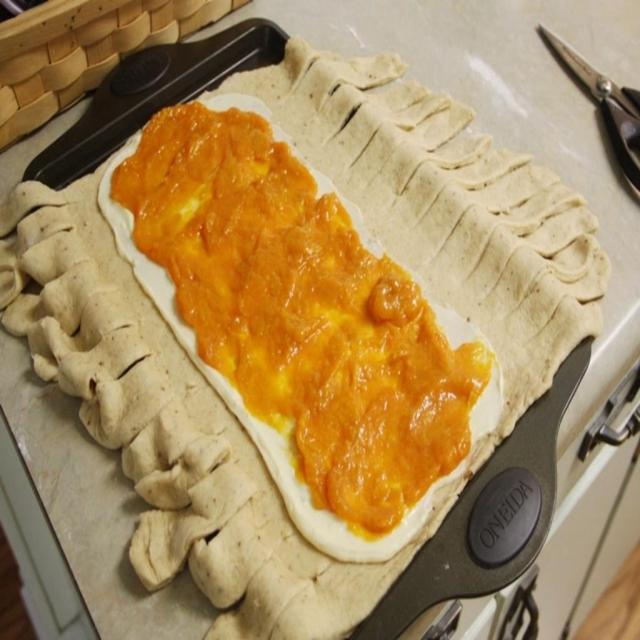scissor: (531, 16, 640, 208)
